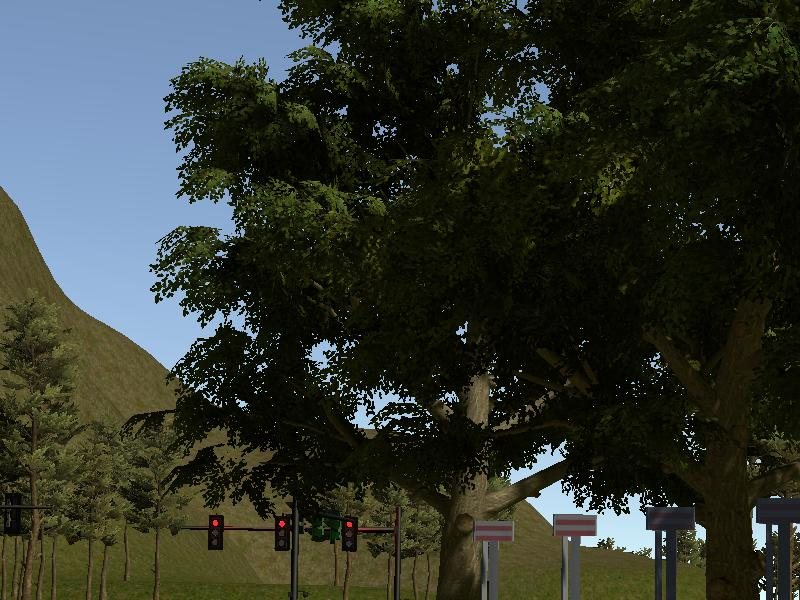Red: (274, 514, 291, 551), (208, 513, 224, 550), (341, 517, 357, 550)
